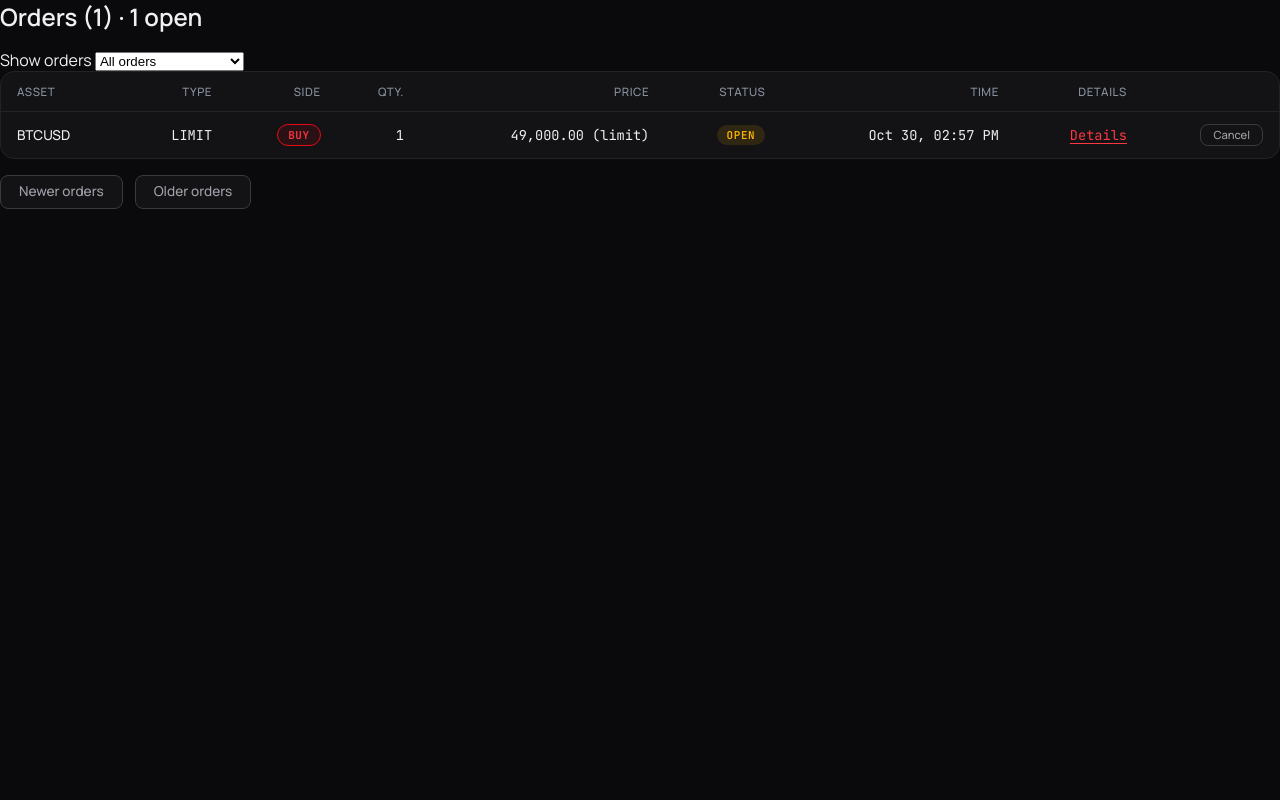
Test: Orders cancel confirmation › dismissing it cancels nothing
Click the button "Cancel".
click(1232, 135)  # box [1200,124,1263,146]
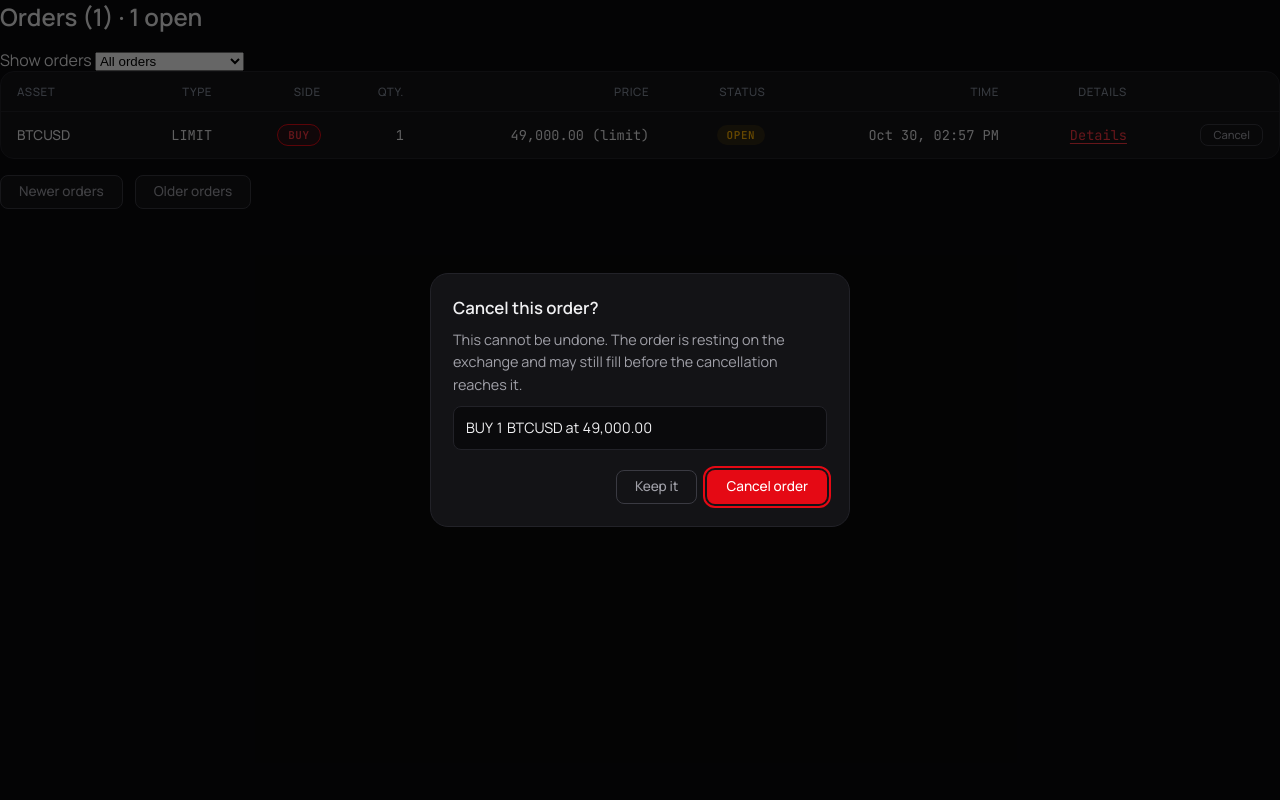
Click the button "Keep it".
click(657, 487)  # box [616,470,698,504]
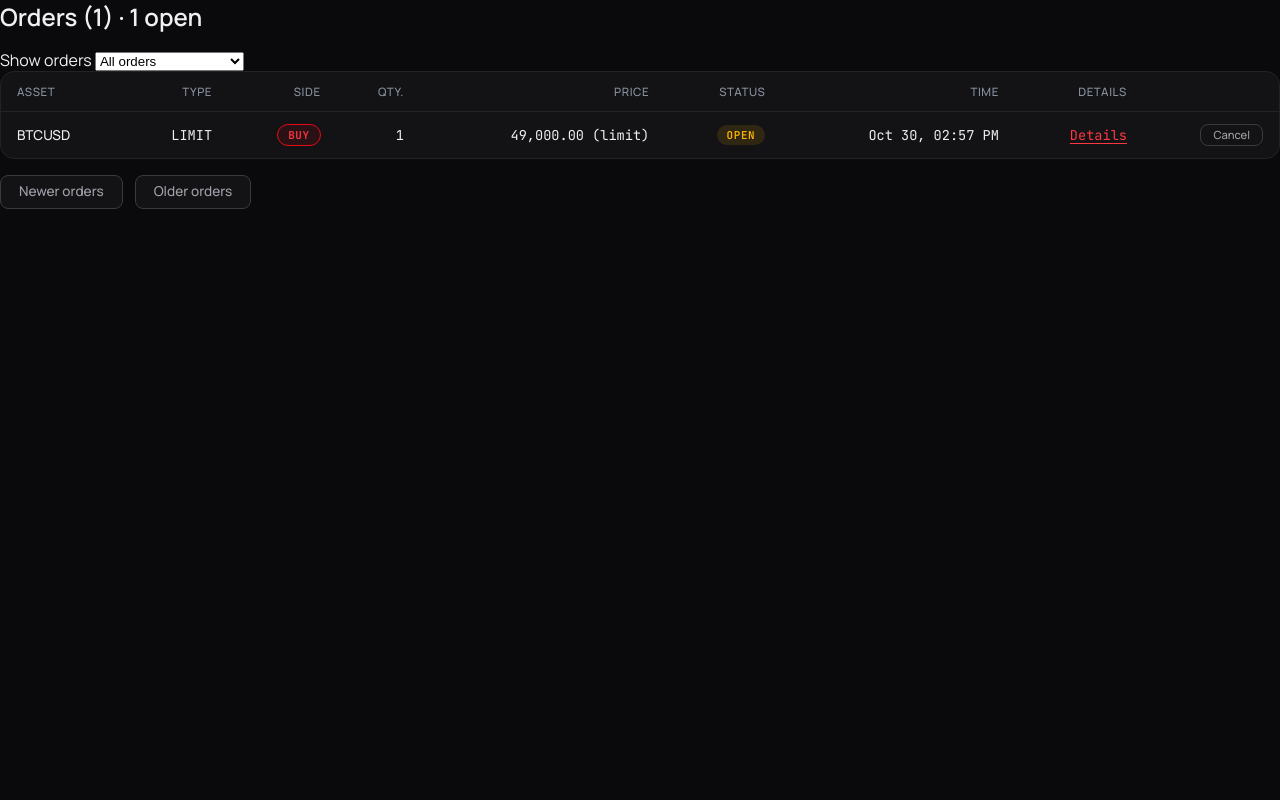
Check: the dialog is gone
